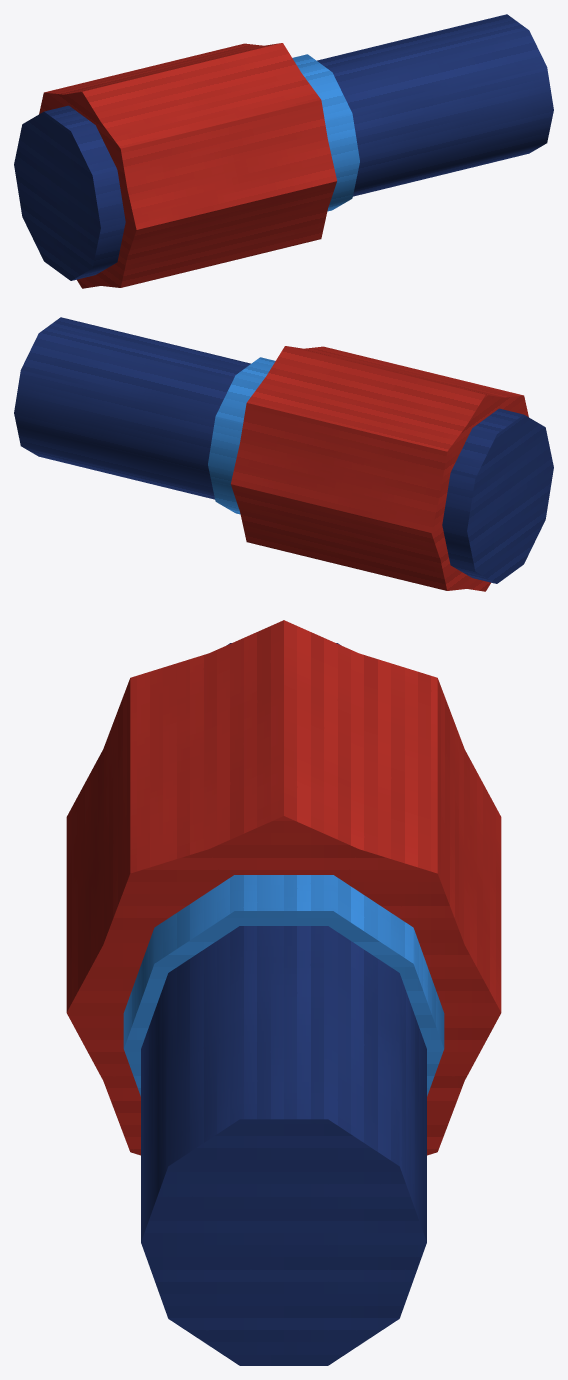
Rendered from filtro_ar_n2.glb.
3 renders of one model, top to bottom at view 1: azimuth 30°, elevation 25°; view 2: azimuth 150°, elevation 25°; view 3: azimuth 270°, elevation 25°, orthographic. The views are drawn at different scales.
Parts seen in each view (by area): view 1: filtro_ar_n2; view 2: filtro_ar_n2; view 3: filtro_ar_n2.
Boxes of the visible parts, x1,y1,x2,y2 form: filtro_ar_n2: [14, 14, 553, 288]; filtro_ar_n2: [14, 317, 553, 591]; filtro_ar_n2: [66, 620, 501, 1365].
Bounding box in the file's own units: 0.372 × 0.152 × 0.152.
Materials: 1 (1 with a texture image).
